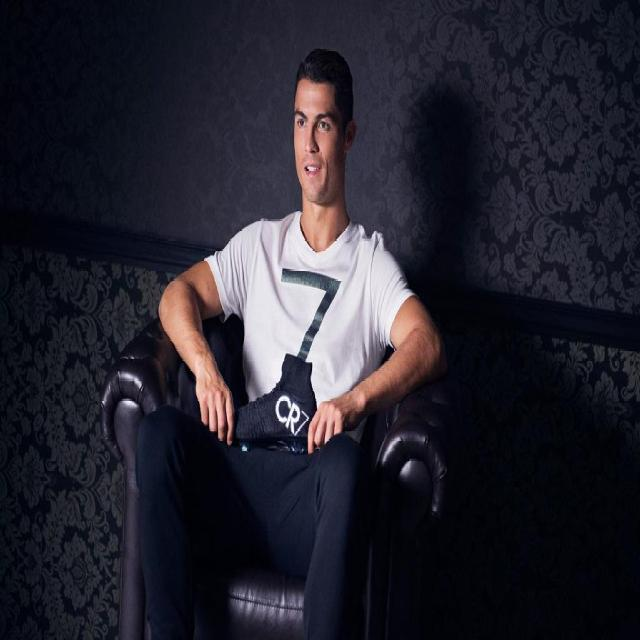Face: (293, 71, 352, 215)
